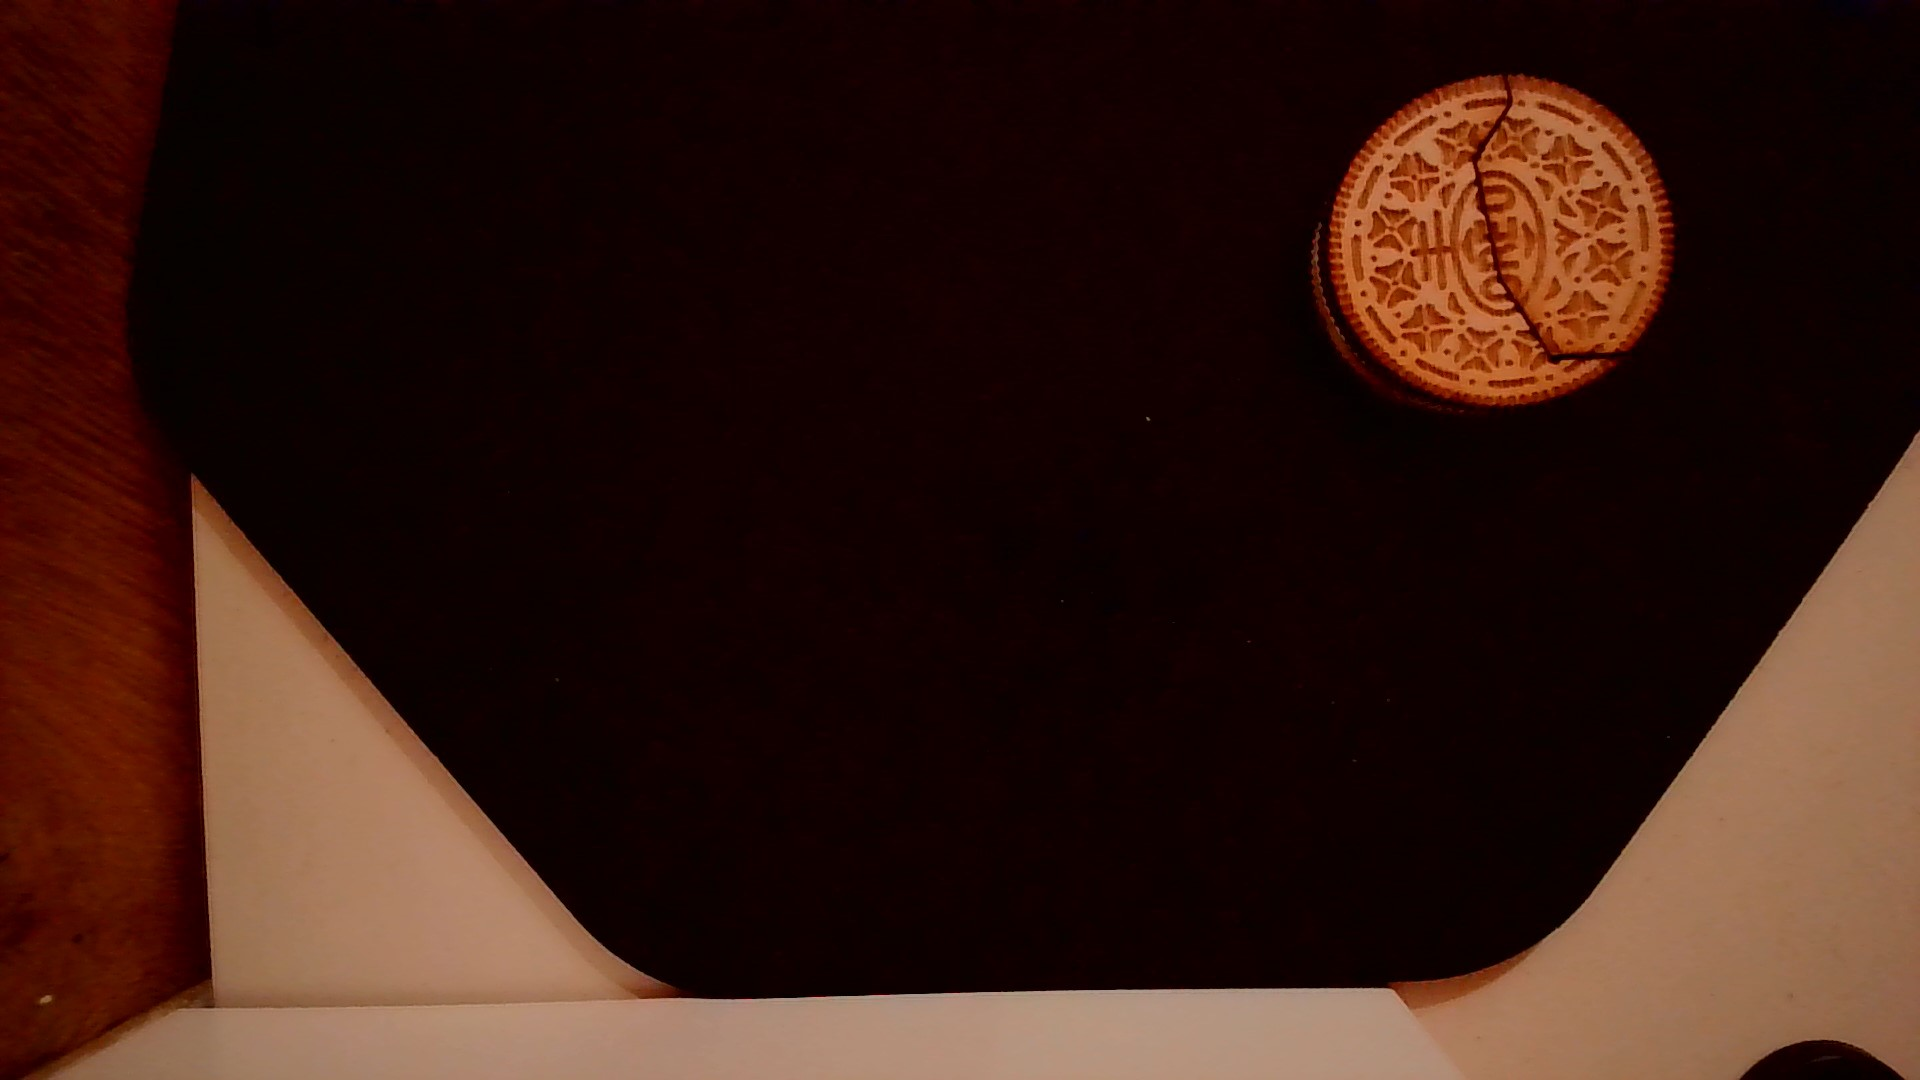Fissure: (1461, 59, 1638, 371)
Oréo: (1305, 71, 1680, 419)
